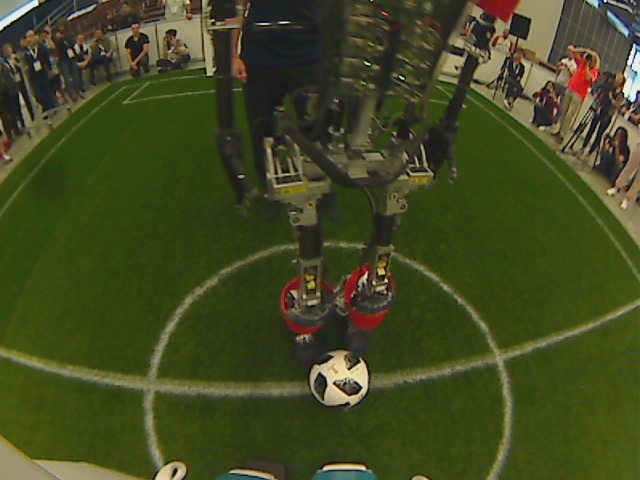ball: (306, 350, 373, 410)
